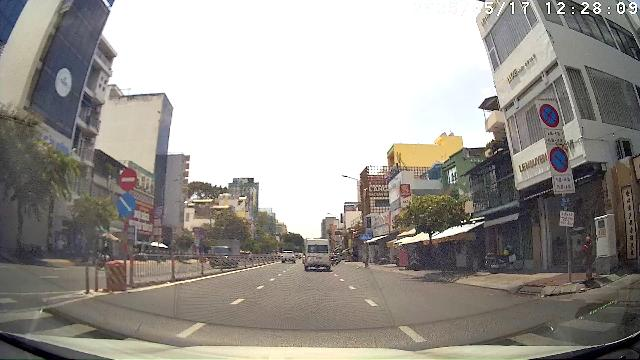102-cam-di-nguoc-chieu: (119, 168, 137, 190)
130-cam-dung-va-do-xe: (538, 103, 560, 127)
131a-cam-do-xe: (549, 146, 569, 173)
302a-huong-phai-di-vong-chuong-ngai-vat-1: (116, 192, 136, 218)
